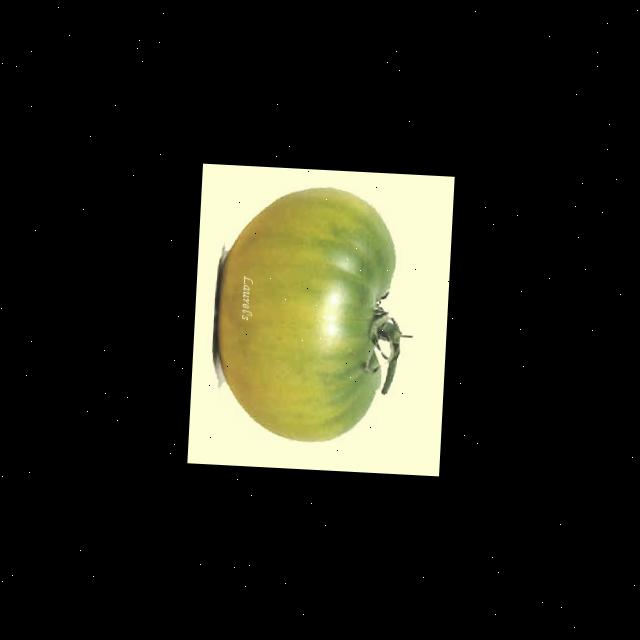tomato: (202, 183, 422, 448)
